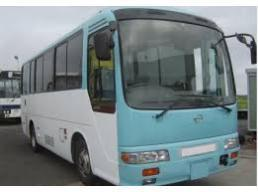bus: (20, 8, 241, 187)
